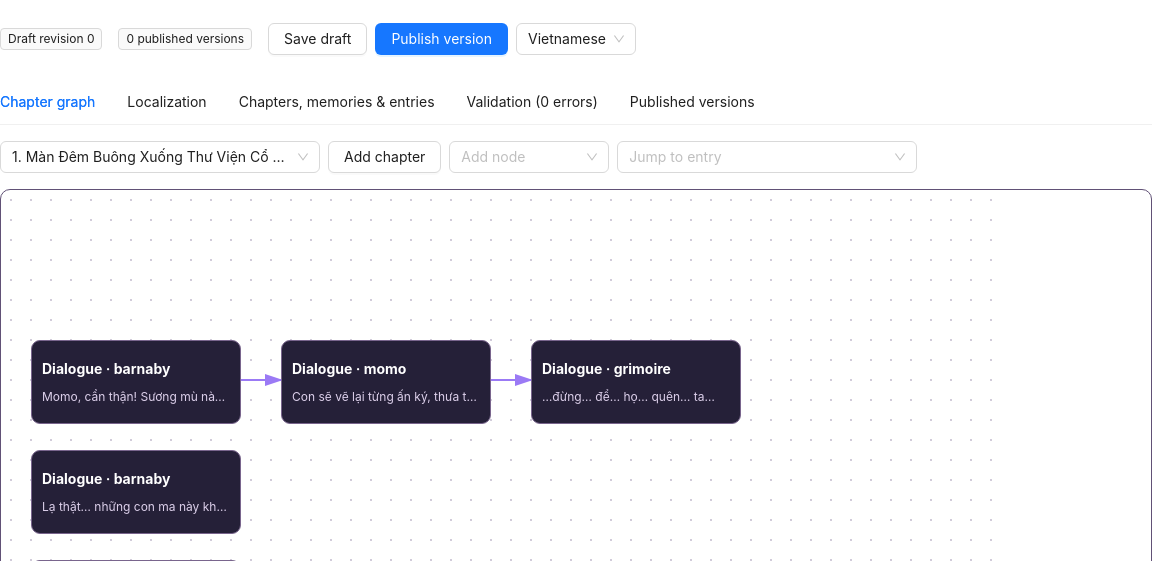
it: selects a graph node, previews from it, edits its expression and saves a revisioned draft
Later steps or results of the test are not shown.
What coordinates should you click on to do the following:
click the button "Dialogue · barnaby"
I would click on:
 (136, 382)
Its box is [31,340,241,424].
(page scrolled)
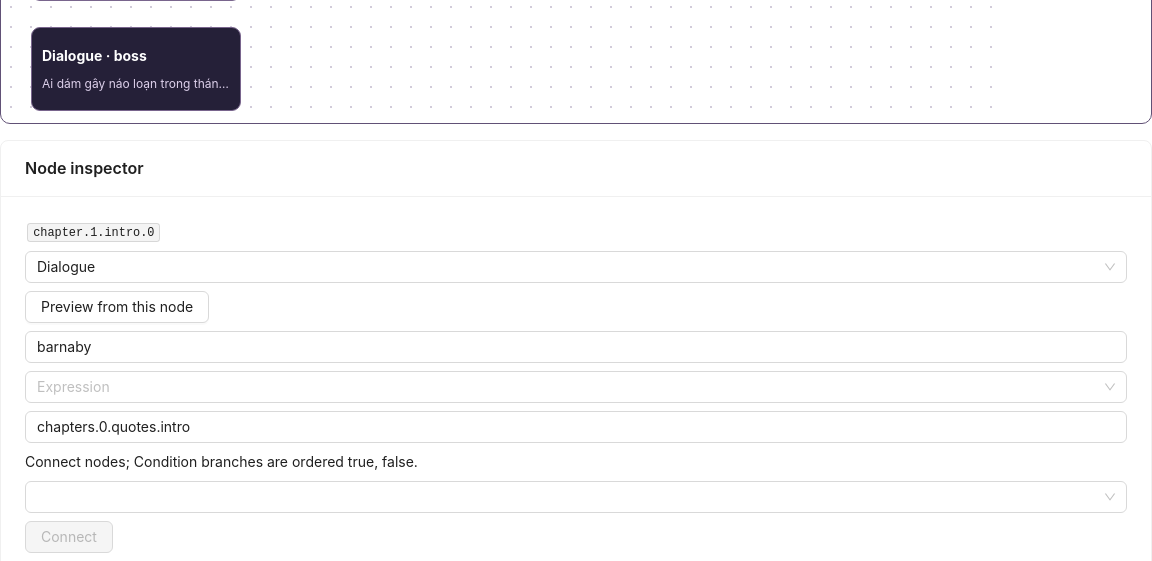
What coordinates should you click on to do the following:
click the button "Preview from this node"
I would click on:
 (117, 307)
Its box is [25,291,209,323].
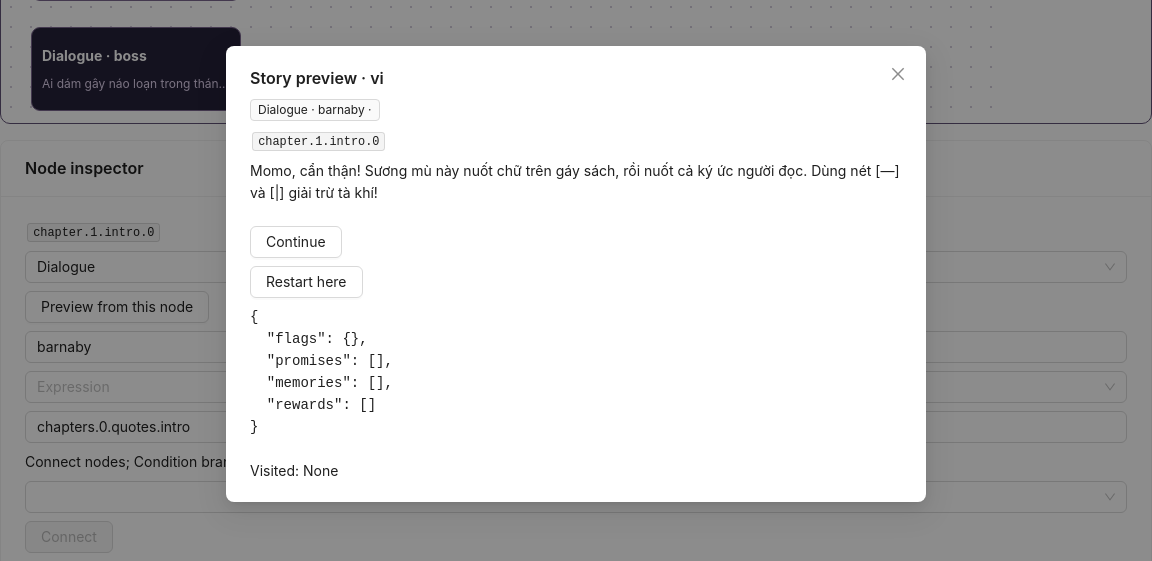
Expected: the text "chapter.1.intro.0" is shown, [252,132,385,151]
What coordinates should you click on to do the following:
click the button "Continue"
I would click on:
 (296, 242)
Its box is [250,226,342,258].
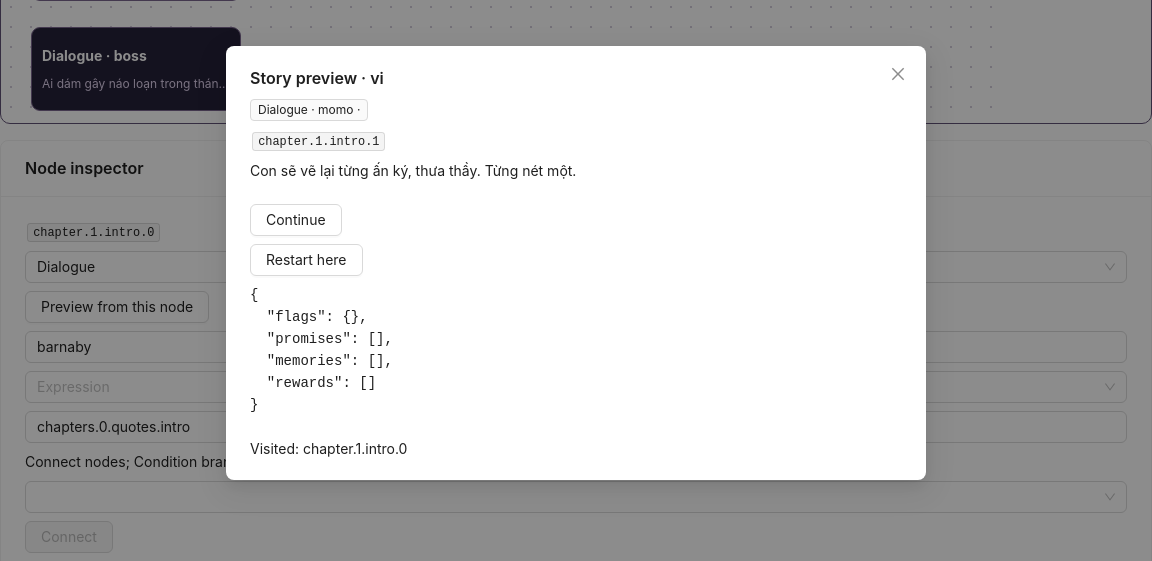
Expected: the text "chapter.1.intro.1" is shown, [252,132,385,151]
